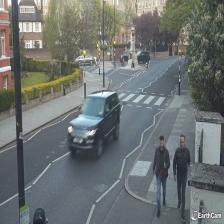person: (173, 134, 191, 221), (152, 136, 170, 216)
